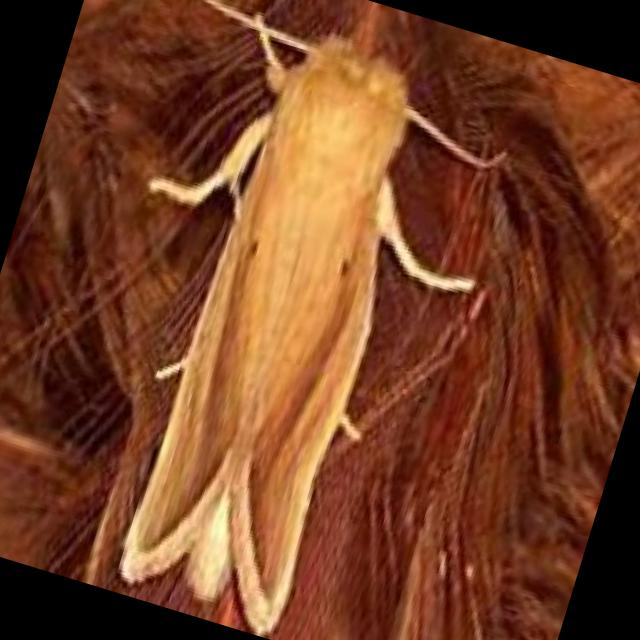stem-borer: (98, 8, 463, 640)
